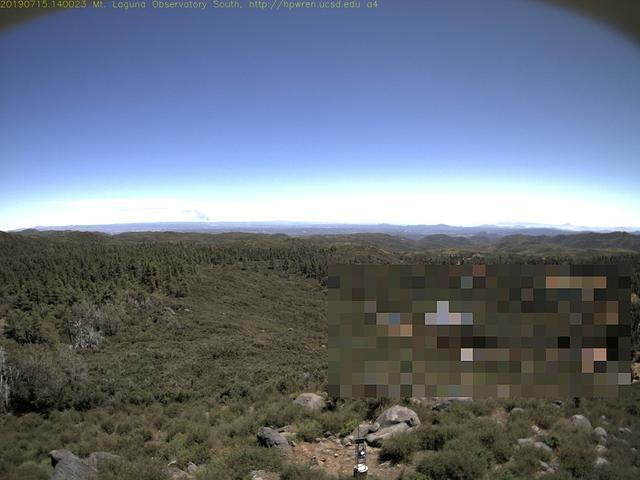smoke: (185, 206, 214, 223)
